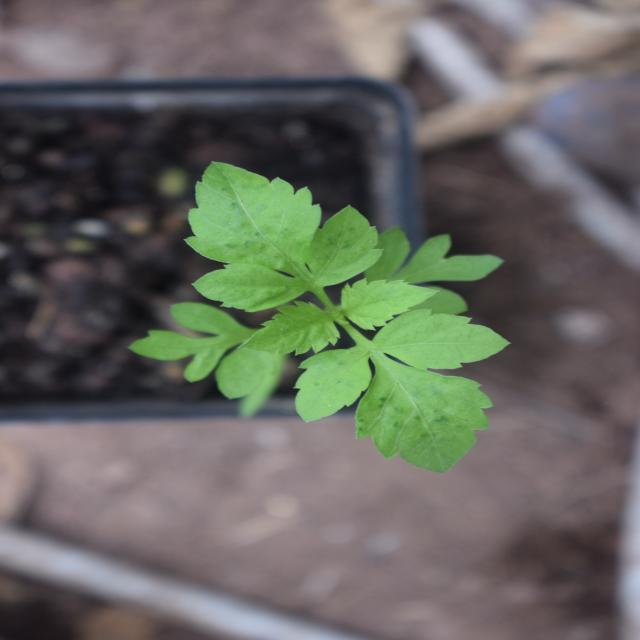Bidens pilosa: (155, 112, 476, 509)
